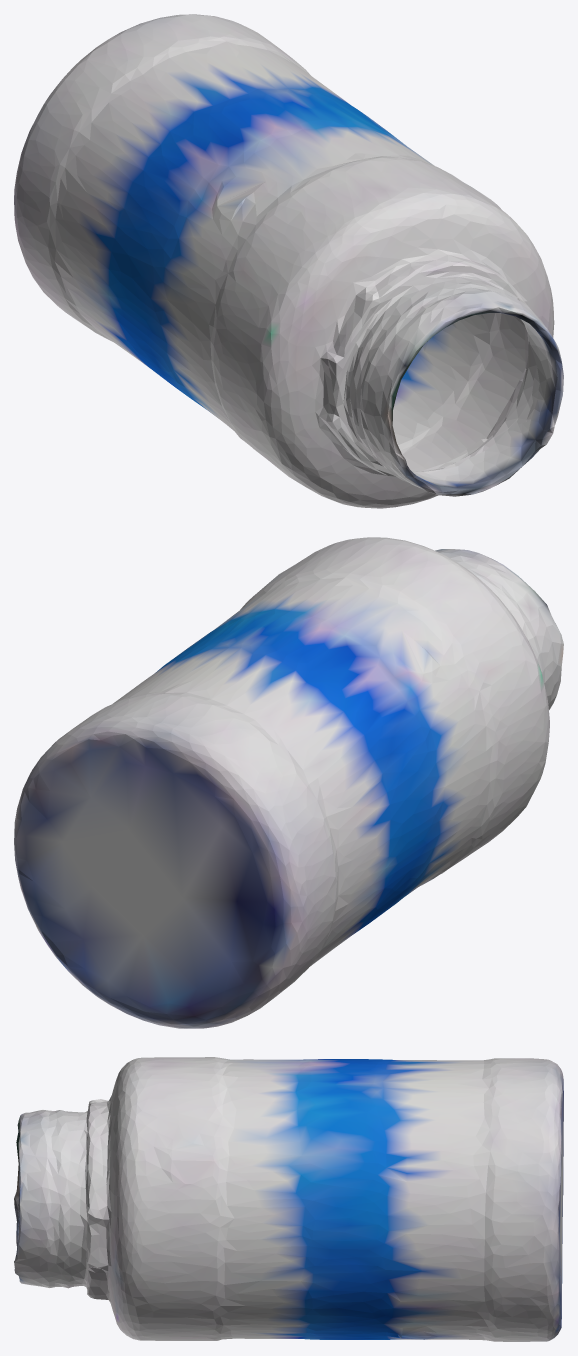
The model's file is scan.obj.
The picture shows the model from 3 angles, top to bottom: view 1: azimuth 30°, elevation 25°; view 2: azimuth 150°, elevation 25°; view 3: azimuth 270°, elevation 25°; orthographic projection. The views are drawn at different scales.
Visible parts, largest first — view 1: scan.ply; view 2: scan.ply; view 3: scan.ply.
Boxes of the visible parts, x1,y1,x2,y2 form: scan.ply: [14, 14, 563, 508]; scan.ply: [14, 537, 563, 1028]; scan.ply: [14, 1057, 563, 1341].
Bounding box in the file's own units: 0.0621 × 0.0624 × 0.1206.
